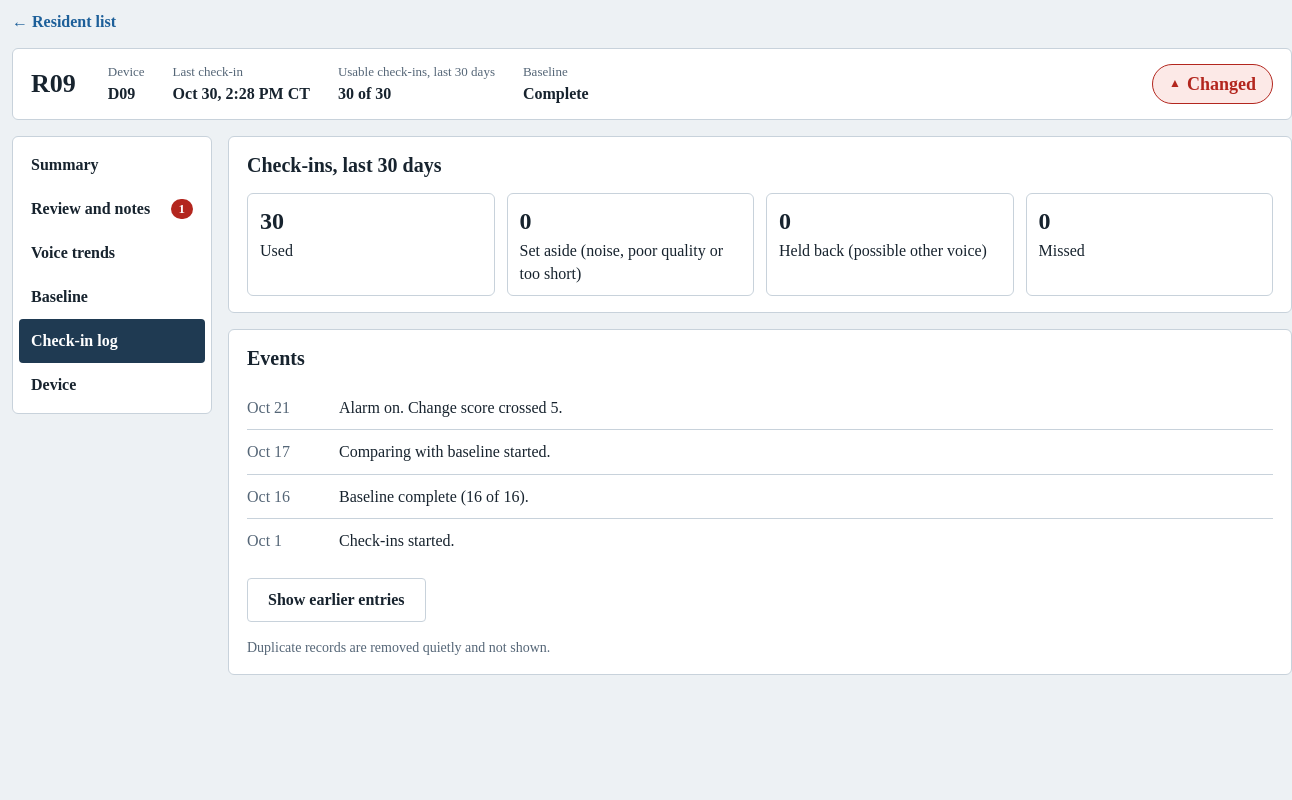
Test: resident Check-in log page › asks for the last 30 days and loads earlier entries on request (UX-146)
Click the button "Show earlier entries".
click(336, 600)  # box top-left (247, 578), bottom-right (426, 622)
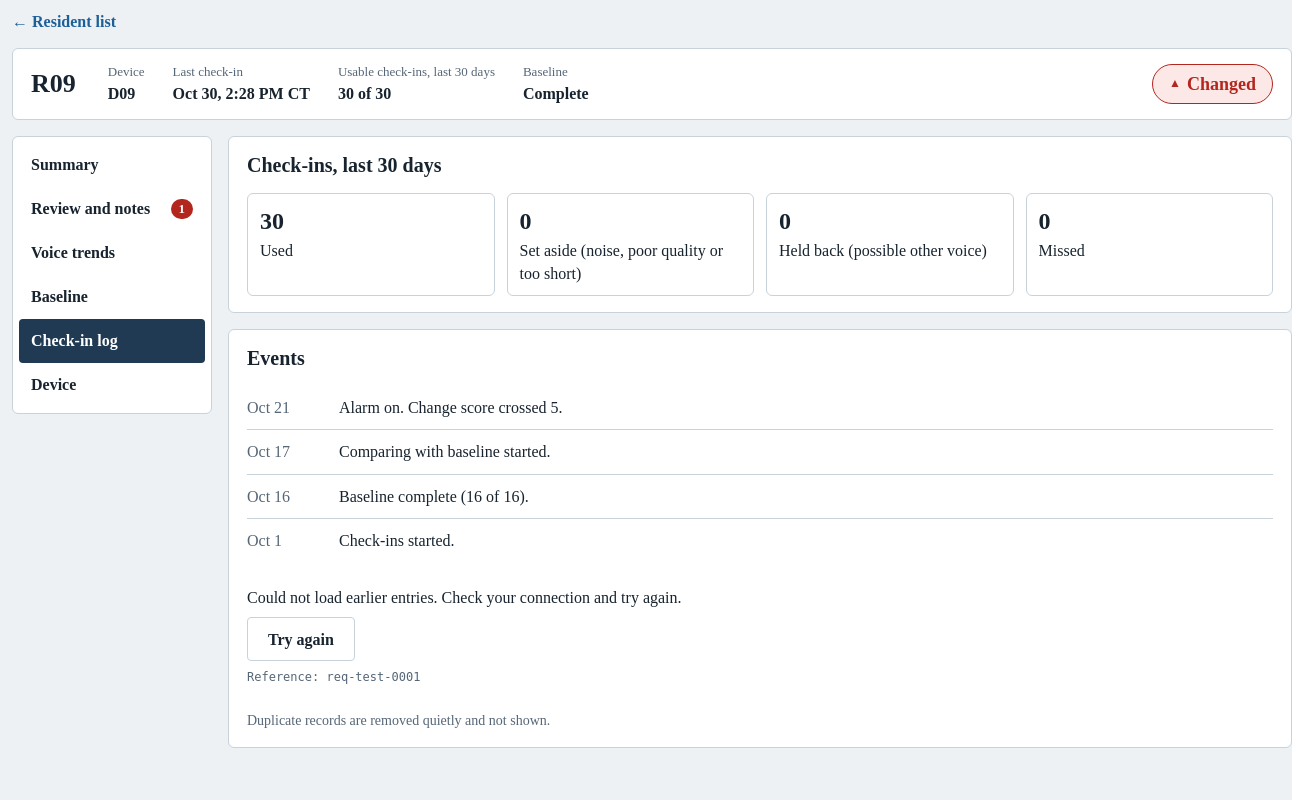
Result: the text "Could not load earlier entries. Check your connection and try again." is shown at top-left (247, 586), bottom-right (682, 609)
Click the button "Try again".
click(301, 639)  # box top-left (247, 617), bottom-right (355, 661)
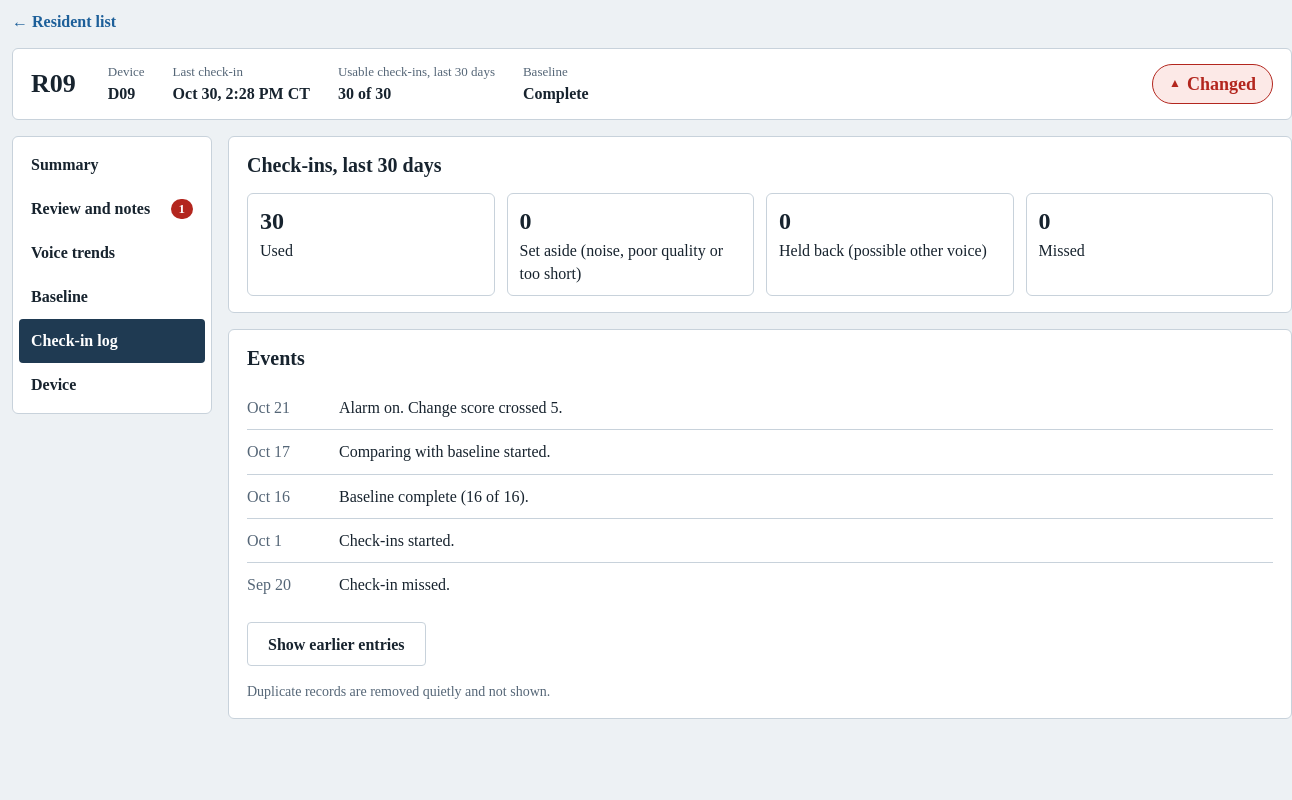
Result: the text "Sep 20" is shown at top-left (247, 576), bottom-right (291, 593)
Click the button "Show earlier entries".
click(336, 644)  # box top-left (247, 622), bottom-right (426, 666)
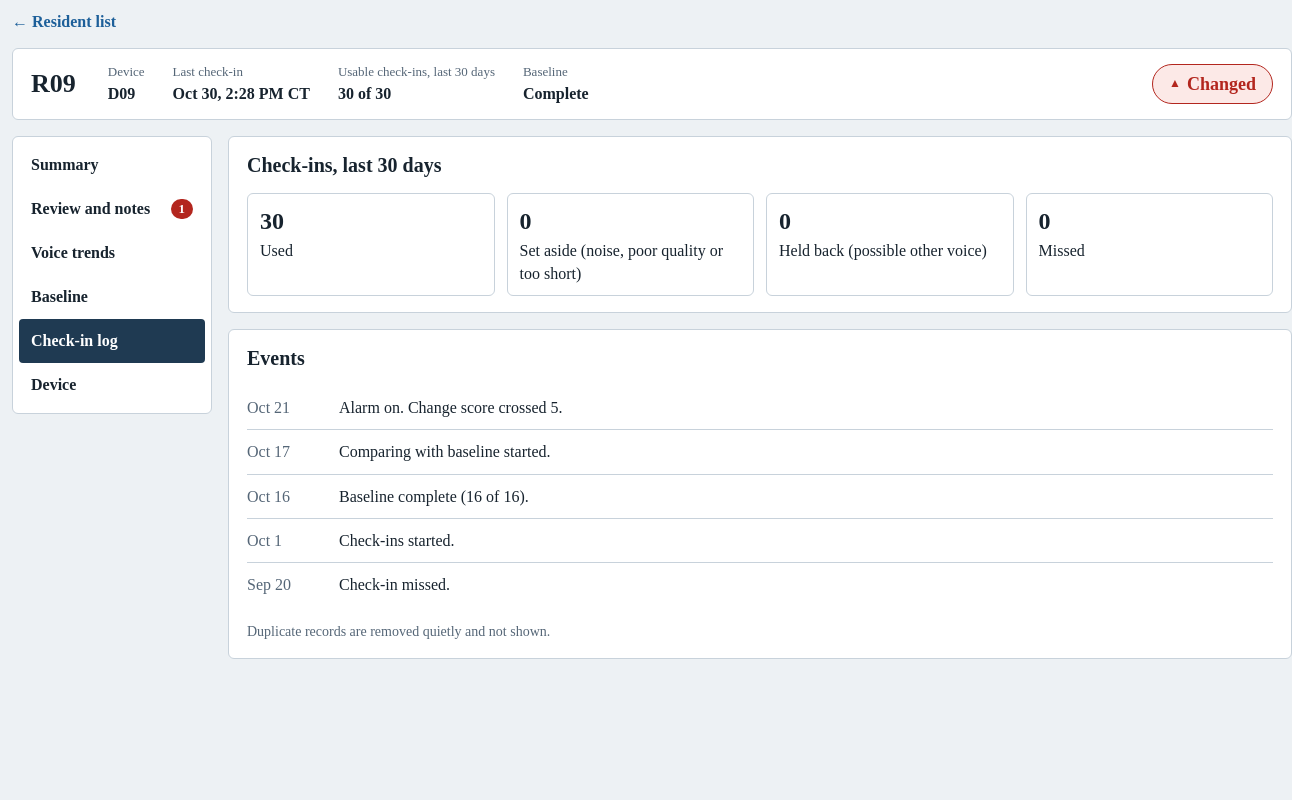
Expected: the text "Duplicate records are removed quietly and not shown." is shown, top-left (247, 624), bottom-right (550, 639)
Result: the text "Sep 20" is shown at top-left (247, 576), bottom-right (291, 593)
Result: the button "Show earlier entries" is gone
